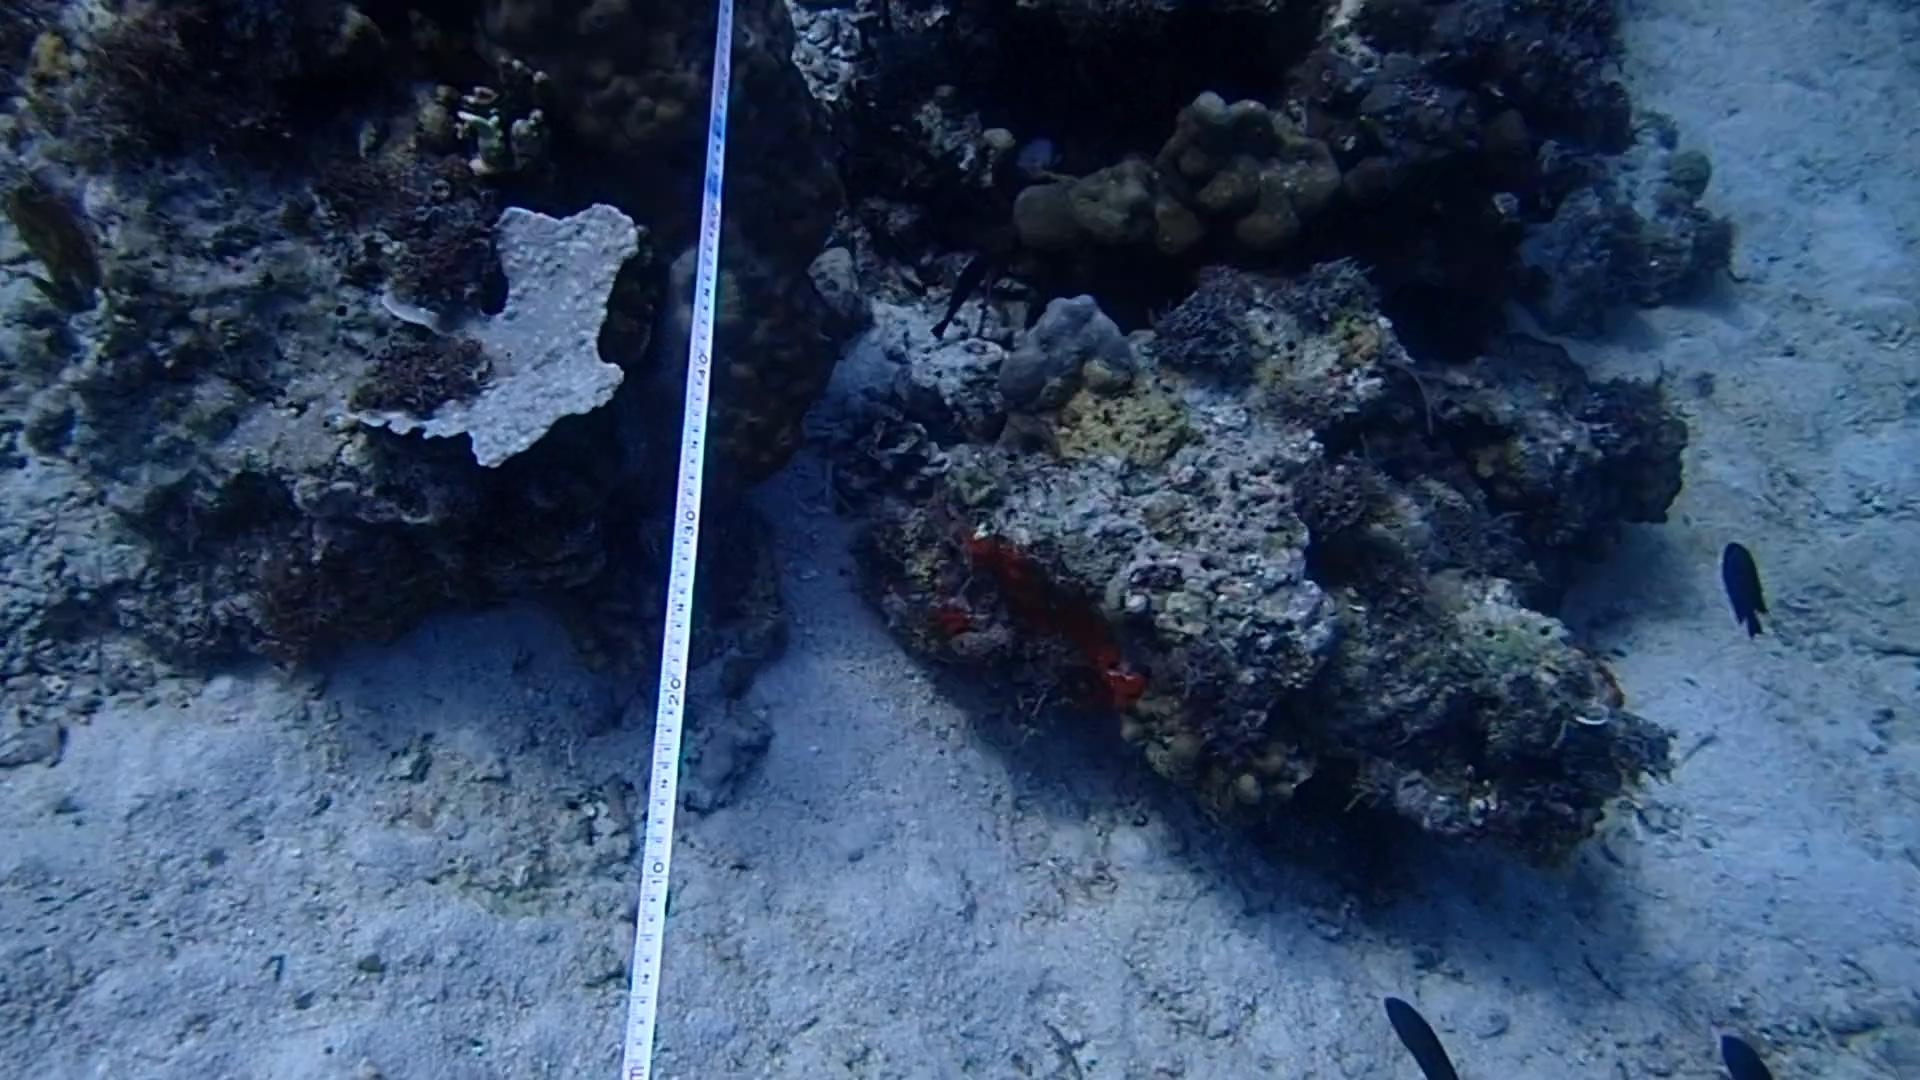Dark Fish: (1705, 527, 1782, 655), (1378, 986, 1461, 1080), (1717, 1021, 1768, 1080)
